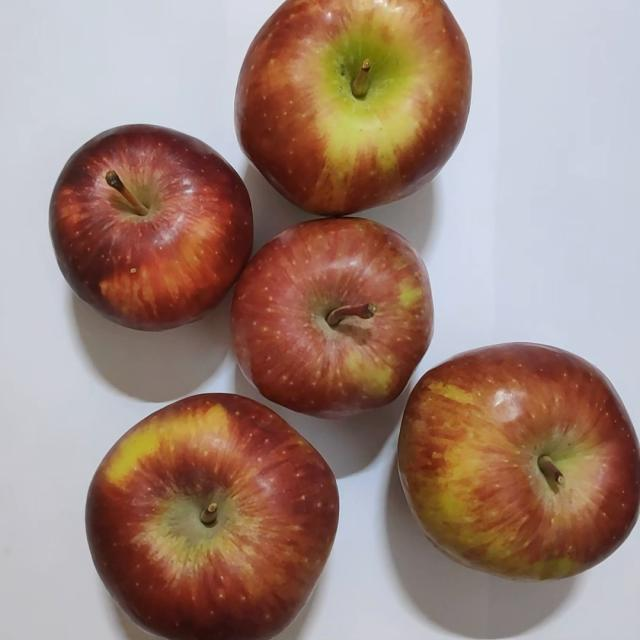apple: (82, 387, 350, 640), (391, 333, 640, 590), (226, 0, 483, 222), (41, 113, 261, 342), (222, 206, 448, 428)
